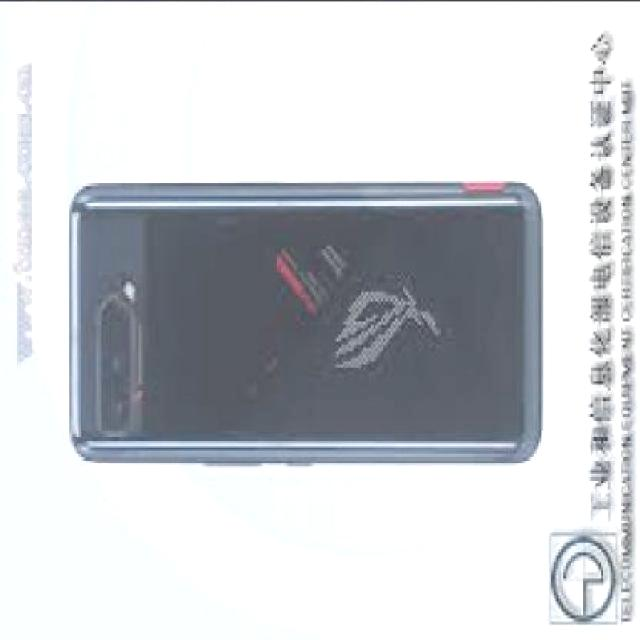phone: (67, 178, 541, 464)
